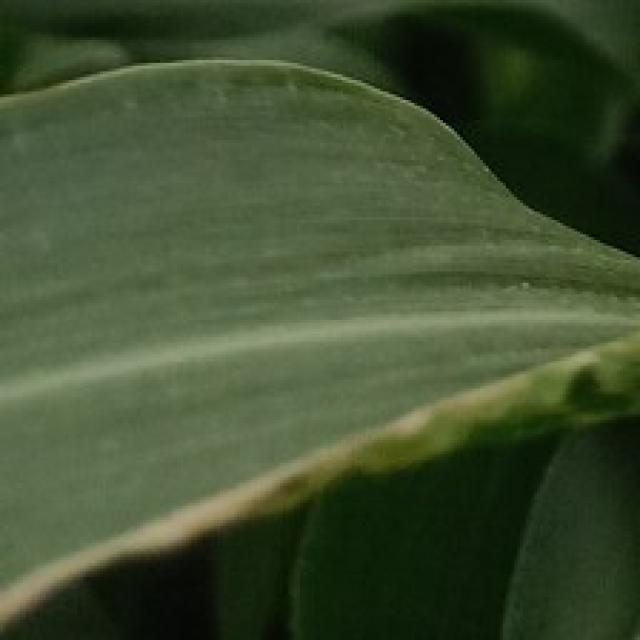Corn: (0, 52, 637, 637), (0, 0, 637, 289)
